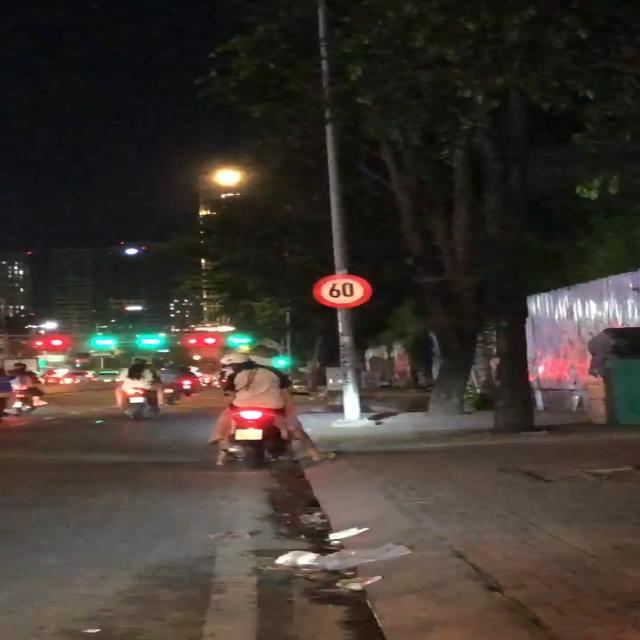Bien bao toc do toi da cho phep: (310, 271, 377, 311)
